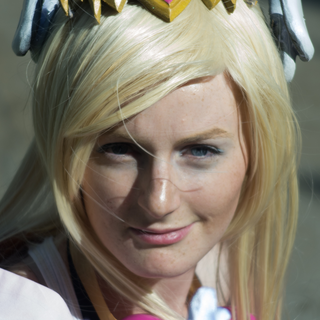eye: (97, 134, 149, 167), (175, 136, 226, 168)
